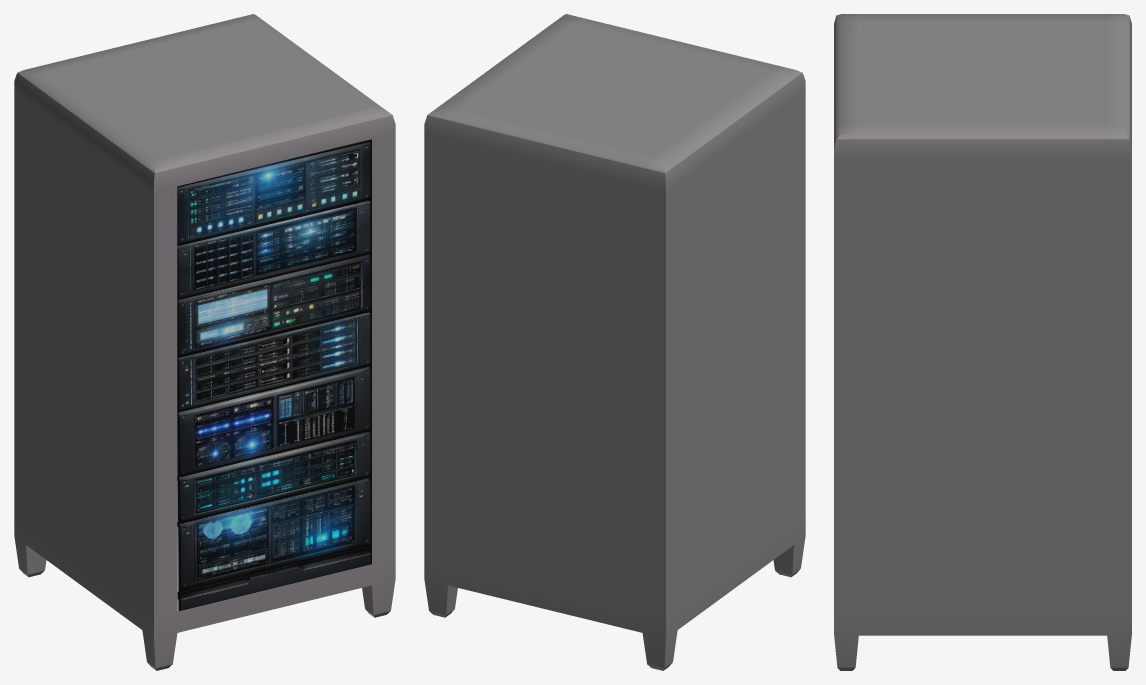
Rendered from server.fbx.
3 views of the same model, side by side, from view 1: azimuth 30°, elevation 25°; view 2: azimuth 150°, elevation 25°; view 3: azimuth 270°, elevation 25° (orthographic). The views are drawn at different scales.
Parts seen in each view (by area): view 1: server; view 2: server; view 3: server.
Boxes of the visible parts, <box> form: server: <box>14,14,395,670</box>; server: <box>424,14,805,670</box>; server: <box>834,14,1131,670</box>.
Bounding box in the file's own units: 5951 × 11852 × 5951.
